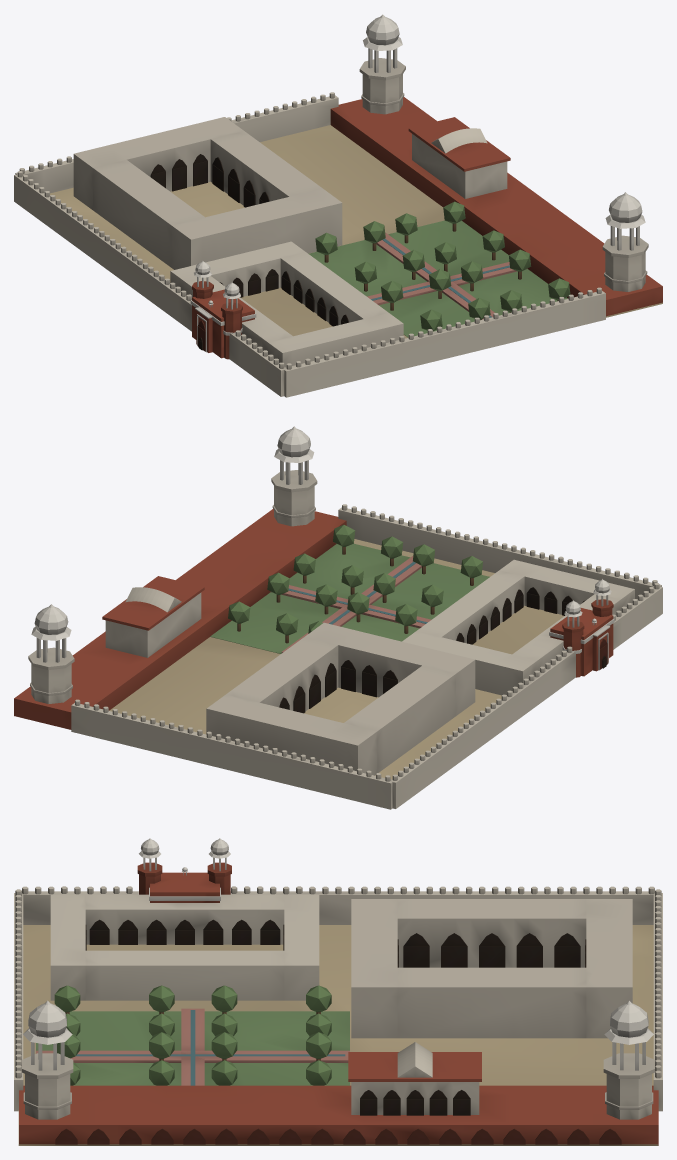
File: dara-shikoh-haveli.glb
3 renders of one model, top to bottom at view 1: azimuth 30°, elevation 25°; view 2: azimuth 150°, elevation 25°; view 3: azimuth 270°, elevation 25°, orthographic. The views are drawn at different scales.
Parts seen in each view (by area): view 1: p0_courts, p2_river terrace, p1_garden; view 2: p0_courts, p2_river terrace, p1_garden; view 3: p0_courts, p2_river terrace, p1_garden.
Boxes of the visible parts, x1,y1,x2,y2 form: p0_courts: [14, 92, 662, 397]; p2_river terrace: [330, 14, 662, 316]; p1_garden: [308, 201, 570, 337]; p0_courts: [71, 504, 662, 809]; p2_river terrace: [14, 426, 346, 729]; p1_garden: [210, 525, 489, 653]; p0_courts: [14, 838, 662, 1145]; p2_river terrace: [19, 1000, 658, 1145]; p1_garden: [36, 985, 349, 1085].
Size of the model in its own units: 93.7 by 24.88 by 112.
